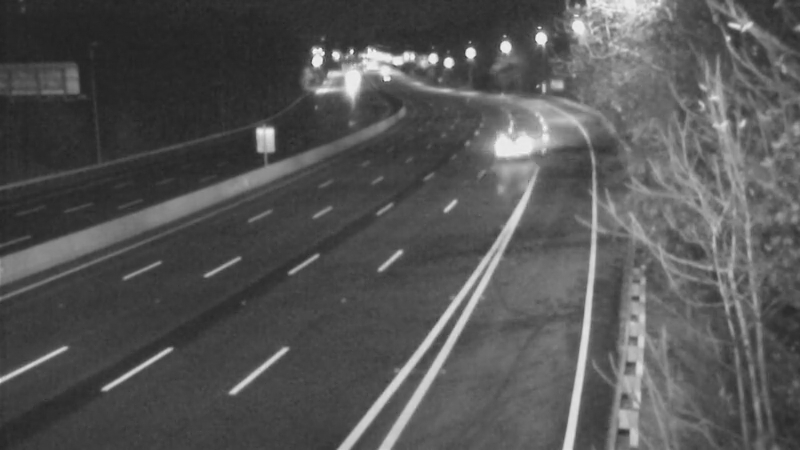vehicle: (484, 117, 534, 167), (326, 55, 376, 105)
